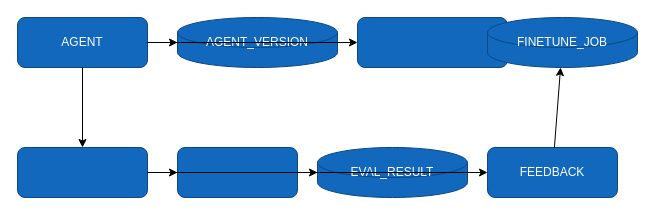
The diagram is 655 pixels wide and 215 high, and some of its shapes have lost their labels. The centre of each missing label's shape, as x and y in pixels:
SESSION: pixel 82 172
TOOL_BINDING: pixel 432 42
TRACE: pixel 237 172
